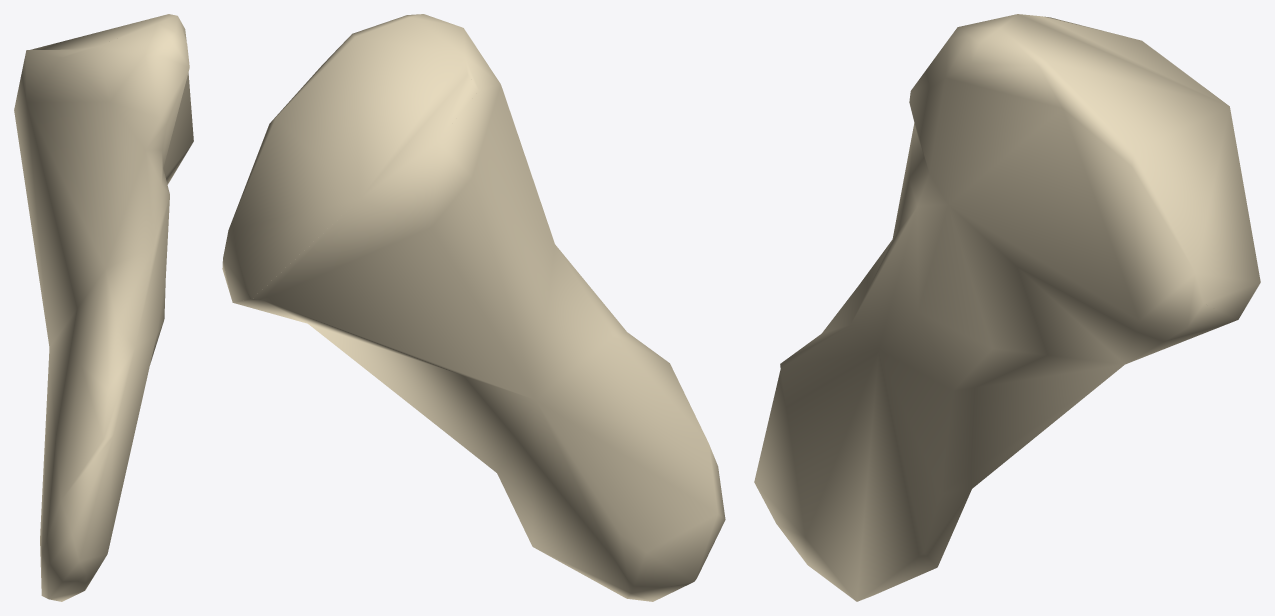
Rendered from esqueleto-distal-phalanx-of-first-finger-of-hand-r.glb.
3 views of the same model, side by side, from view 1: azimuth 30°, elevation 25°; view 2: azimuth 150°, elevation 25°; view 3: azimuth 270°, elevation 25° (orthographic). The views are drawn at different scales.
Parts seen in each view (by area): view 1: Distal phalanx of first finger of hand.r; view 2: Distal phalanx of first finger of hand.r; view 3: Distal phalanx of first finger of hand.r.
Part boxes in pixels (bbox=[...]): Distal phalanx of first finger of hand.r: bbox=[14, 14, 193, 601]; Distal phalanx of first finger of hand.r: bbox=[222, 14, 725, 601]; Distal phalanx of first finger of hand.r: bbox=[754, 14, 1260, 601].
Size of the model in its own units: 0.014 by 0.0241 by 0.0168.
